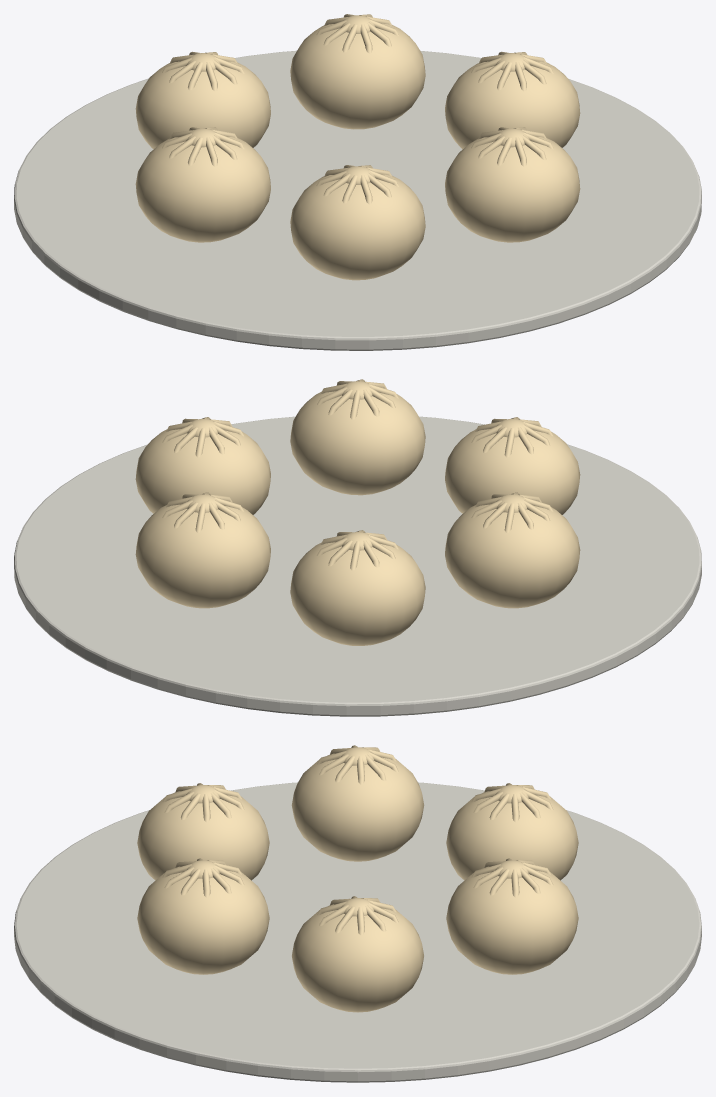
File: soup-dumplings.glb
3 renders of one model, top to bottom at view 1: azimuth 30°, elevation 25°; view 2: azimuth 150°, elevation 25°; view 3: azimuth 270°, elevation 25°, orthographic.
Parts seen in each view (by area): view 1: 27cm demo plate, Dumpling, Dumpling.005, Dumpling.002, Dumpling.004, Dumpling.003, Dumpling.001; view 2: 27cm demo plate, Dumpling.002, Dumpling.003, Dumpling.004, Dumpling, Dumpling.001, Dumpling.005; view 3: 27cm demo plate, Dumpling.004, Dumpling.002, Dumpling, Dumpling.001, Dumpling.003, Dumpling.005.
Part boxes in pixels (box(x1,y1,x2,y2)): 27cm demo plate: box(14, 50, 701, 350); Dumpling: box(445, 137, 580, 242); Dumpling.005: box(290, 174, 425, 280); Dumpling.002: box(290, 23, 425, 129); Dumpling.004: box(135, 137, 270, 242); Dumpling.003: box(135, 61, 270, 149); Dumpling.001: box(445, 61, 580, 149); 27cm demo plate: box(14, 416, 701, 716); Dumpling.002: box(135, 501, 270, 608); Dumpling.003: box(290, 539, 425, 645); Dumpling.004: box(445, 501, 580, 608); Dumpling: box(290, 387, 425, 495); Dumpling.001: box(135, 425, 270, 514); Dumpling.005: box(445, 425, 580, 514); 27cm demo plate: box(14, 782, 701, 1082); Dumpling.004: box(291, 753, 424, 861); Dumpling.002: box(446, 866, 578, 974); Dumpling: box(137, 866, 269, 974); Dumpling.001: box(292, 904, 423, 1012); Dumpling.003: box(446, 791, 578, 880); Dumpling.005: box(137, 791, 269, 880).
Size of the model in its own units: 0.27 by 0.049 by 0.27.
